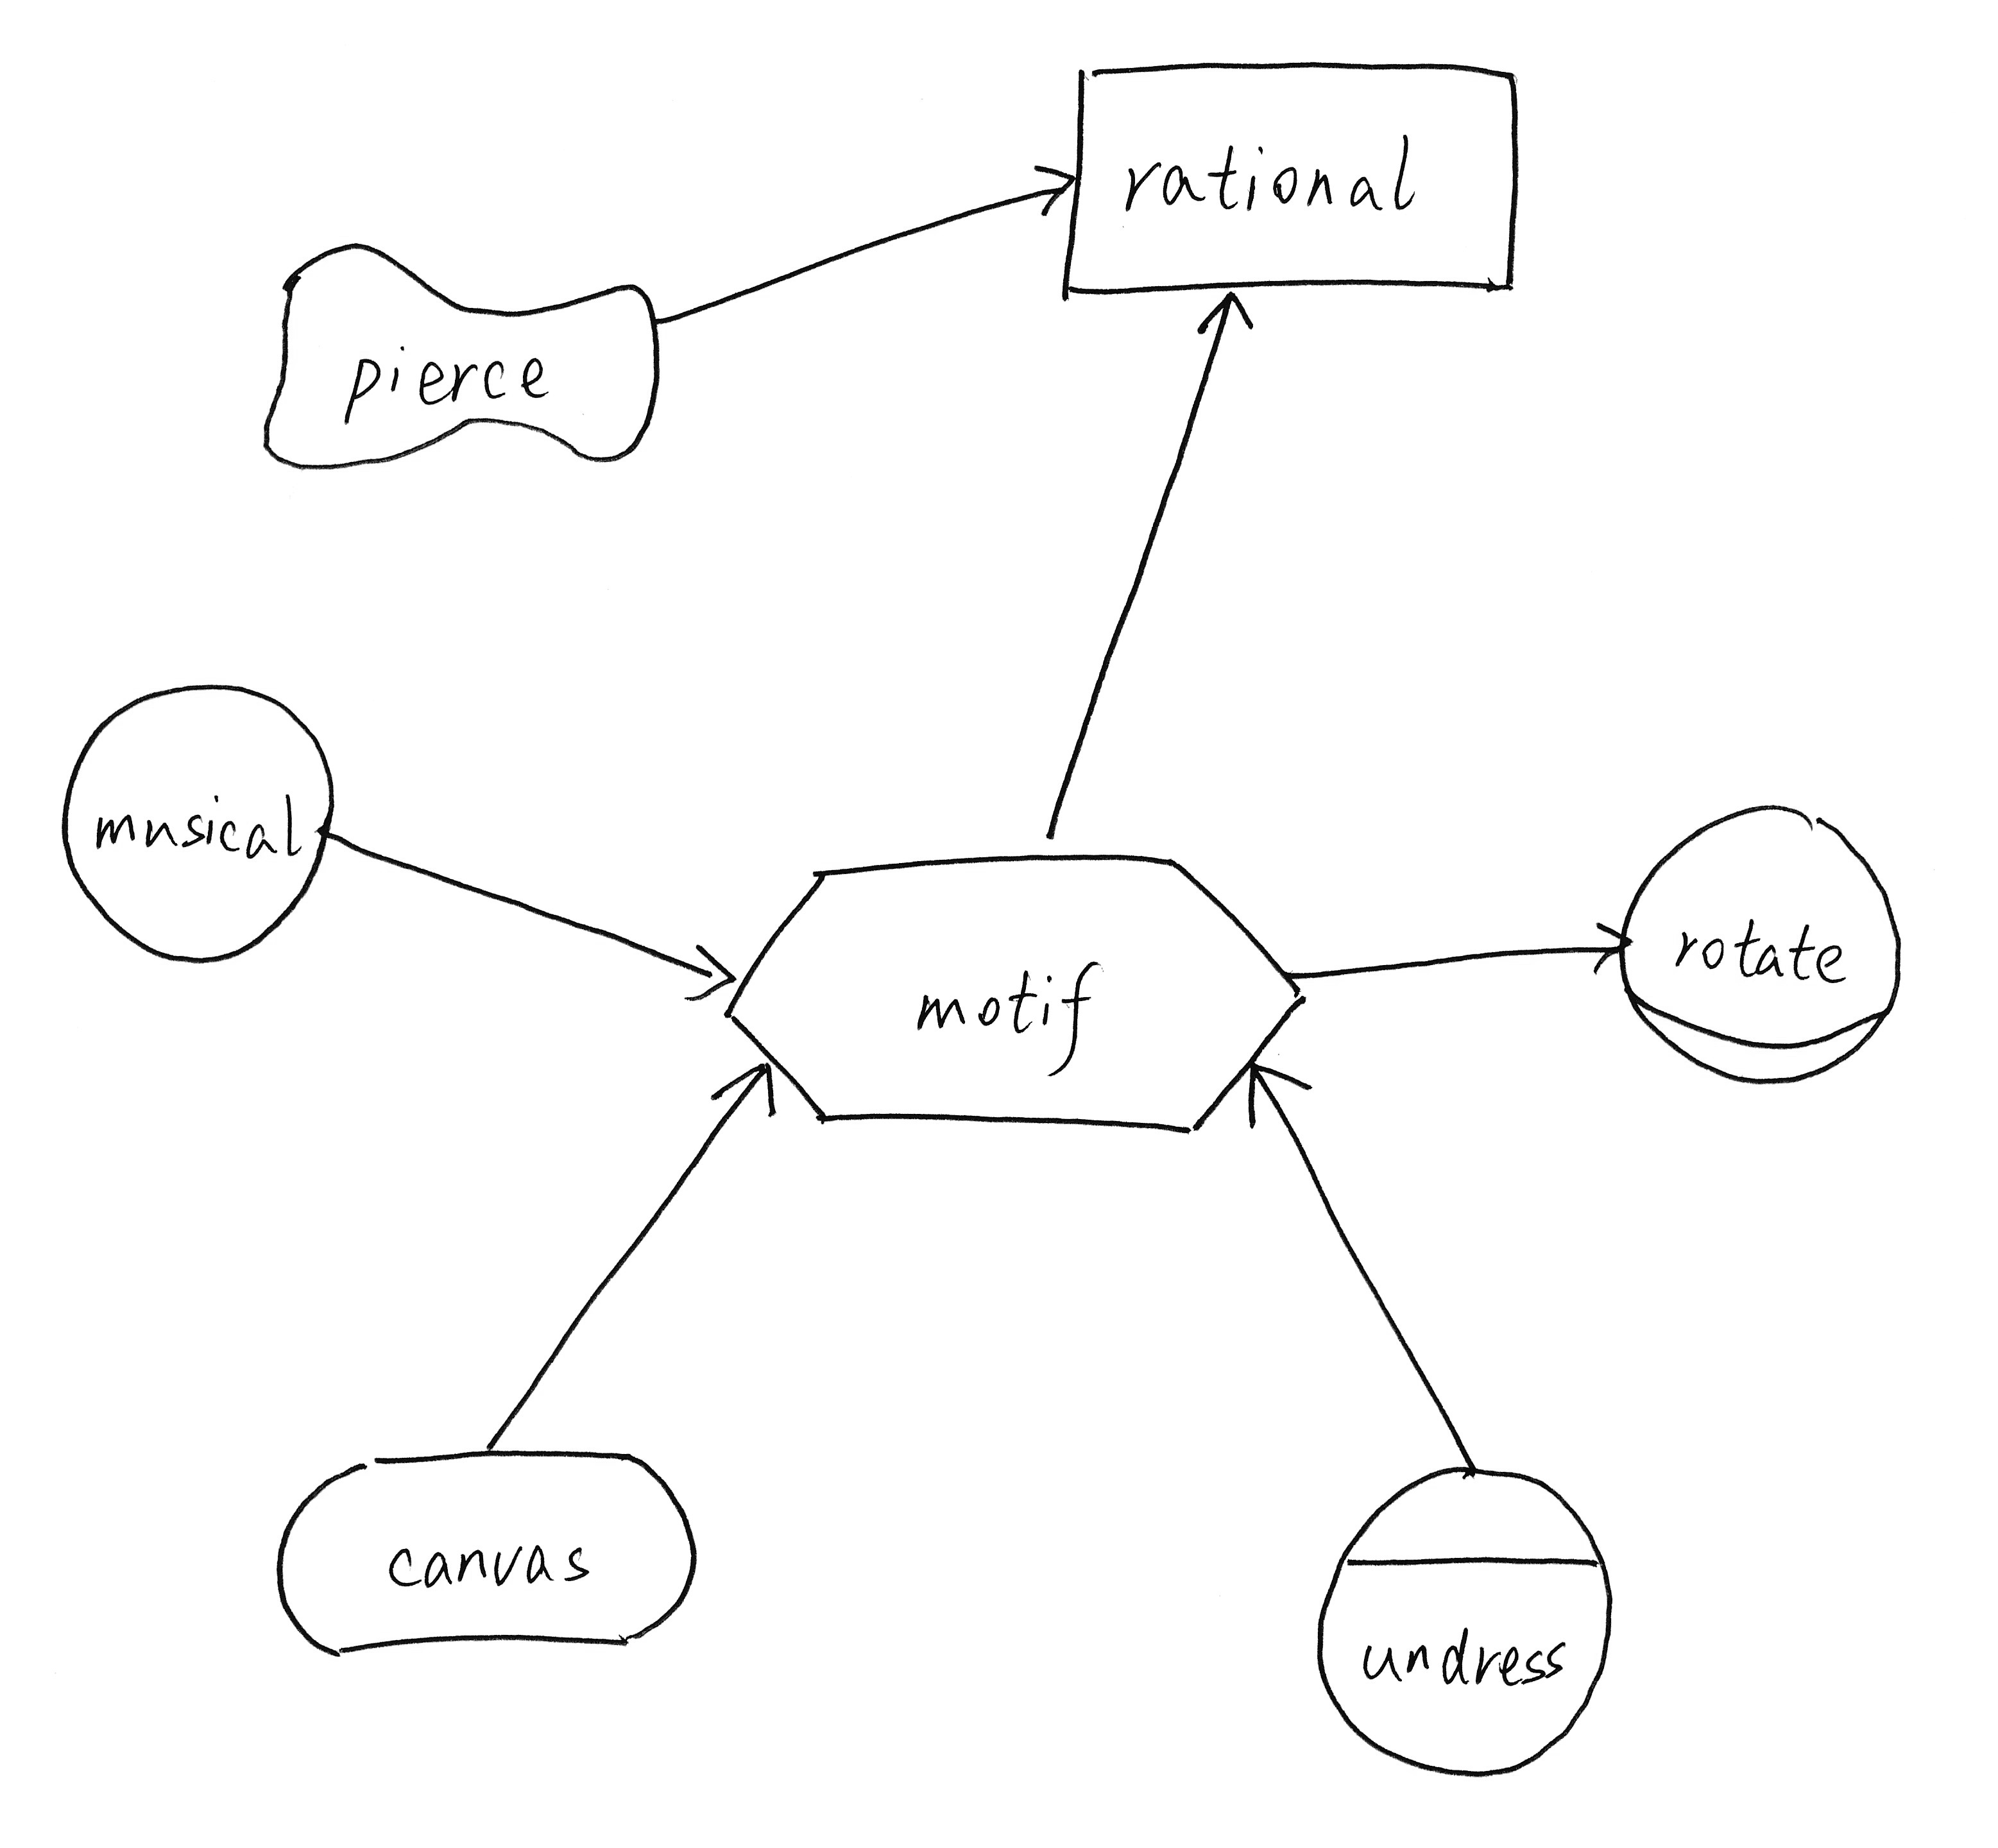actor: (42, 661, 353, 974)
agent: (1293, 1448, 1629, 1794)
arrow: (1229, 1051, 1317, 1133), (710, 1051, 794, 1131), (681, 929, 745, 1030), (1185, 277, 1265, 357), (1025, 148, 1090, 228), (1580, 903, 1641, 981)
goal: (252, 1425, 712, 1667)
quality: (237, 228, 681, 484)
resource: (1046, 35, 1544, 322)
role: (1596, 790, 1925, 1095)
task: (710, 832, 1317, 1155)
